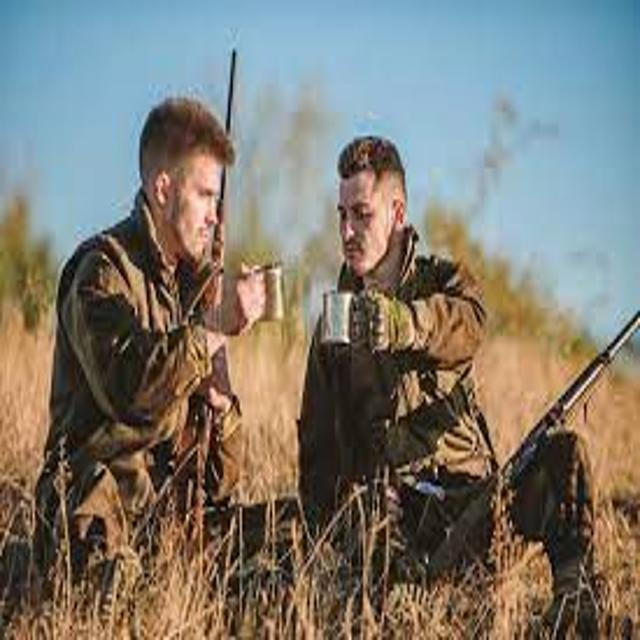poacher: (255, 114, 638, 640), (1, 77, 323, 635)
